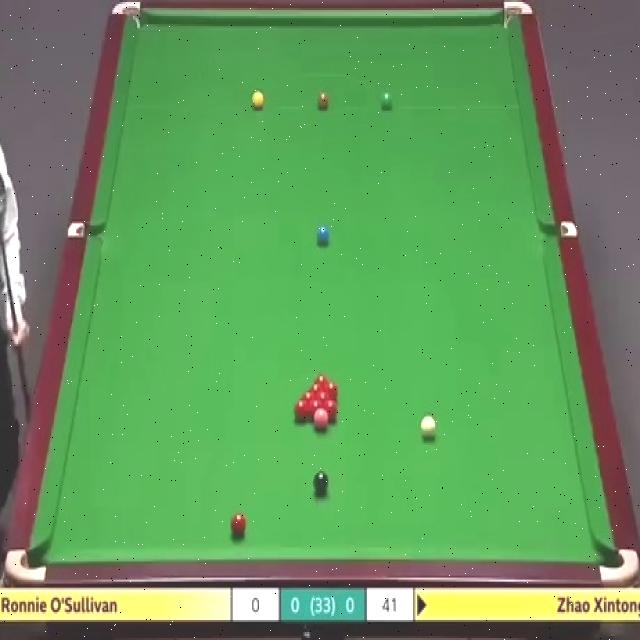black-ball: (314, 470, 328, 492)
blue-ball: (316, 224, 330, 248)
brown-ball: (318, 91, 330, 110)
green-ball: (381, 91, 395, 112)
pink-ball: (312, 408, 328, 430)
red-ball: (230, 511, 247, 538), (322, 400, 339, 424), (322, 381, 338, 402), (294, 400, 308, 420), (309, 400, 323, 419), (313, 372, 329, 388), (300, 391, 316, 404), (315, 390, 331, 403), (308, 382, 324, 394)
white-ball: (419, 413, 436, 438)
yellow-ball: (250, 90, 265, 110)
